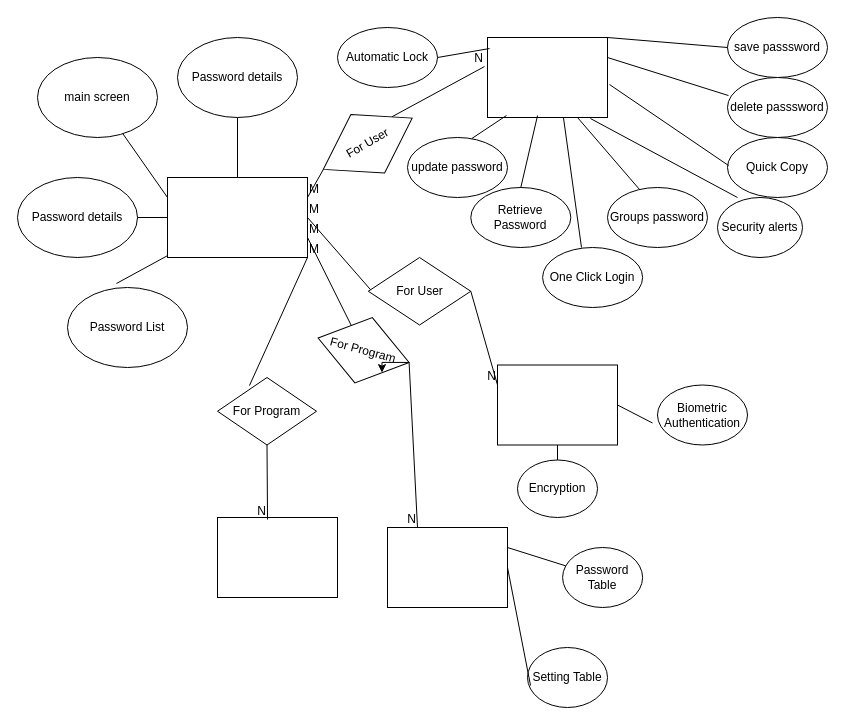
The diagram is 845 pixels wide and 725 high, and some of its shapes have lost their labels. Each missing label, with the box of its shape:
Datatbase: (386, 526, 508, 608)
Functionality: (486, 36, 608, 118)
Security: (496, 364, 618, 445)
UI - password manager: (166, 176, 308, 258)
User Interaction: (216, 516, 338, 598)
